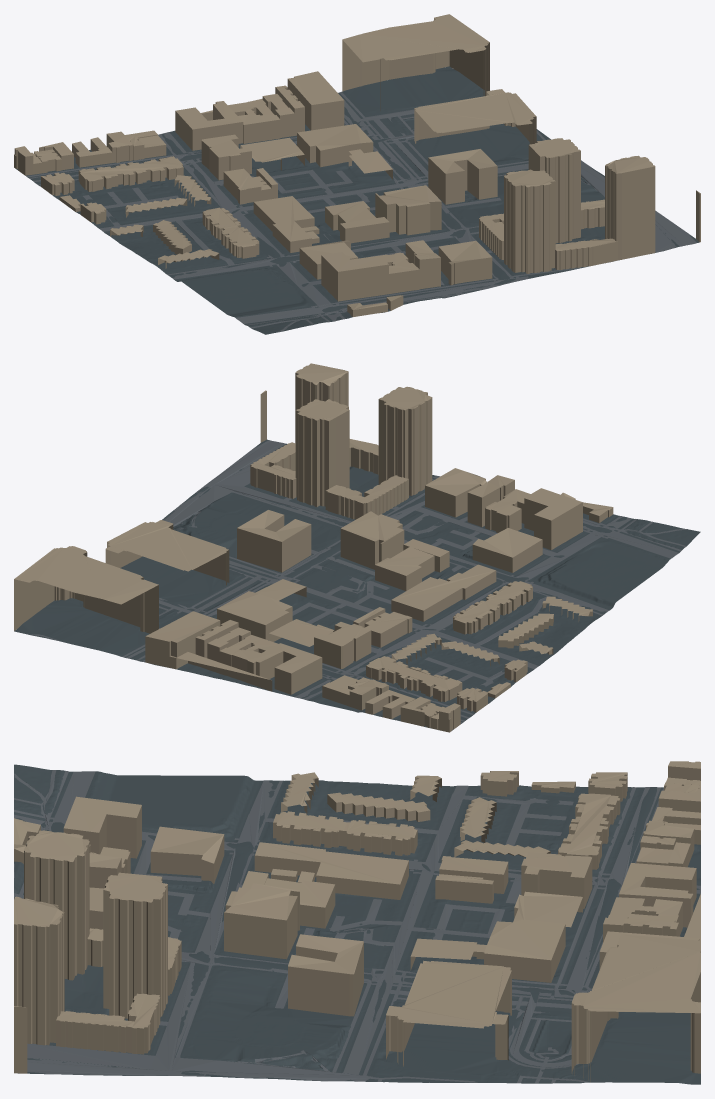
File: epsg26910-1434-10889.lod0.glb
The picture shows the model from 3 angles, top to bottom: view 1: azimuth 30°, elevation 25°; view 2: azimuth 150°, elevation 25°; view 3: azimuth 270°, elevation 25°; orthographic projection. The views are drawn at different scales.
Visible parts, largest first — view 1: epsg26910-1434-10889-lod0; view 2: epsg26910-1434-10889-lod0; view 3: epsg26910-1434-10889-lod0.
Boxes of the visible parts, x1=… form: epsg26910-1434-10889-lod0: x1=14, y1=14, x2=700, y2=334; epsg26910-1434-10889-lod0: x1=14, y1=363, x2=700, y2=732; epsg26910-1434-10889-lod0: x1=14, y1=761, x2=700, y2=1084.
Bounding box in the file's own units: 384 × 84.39 × 384.
